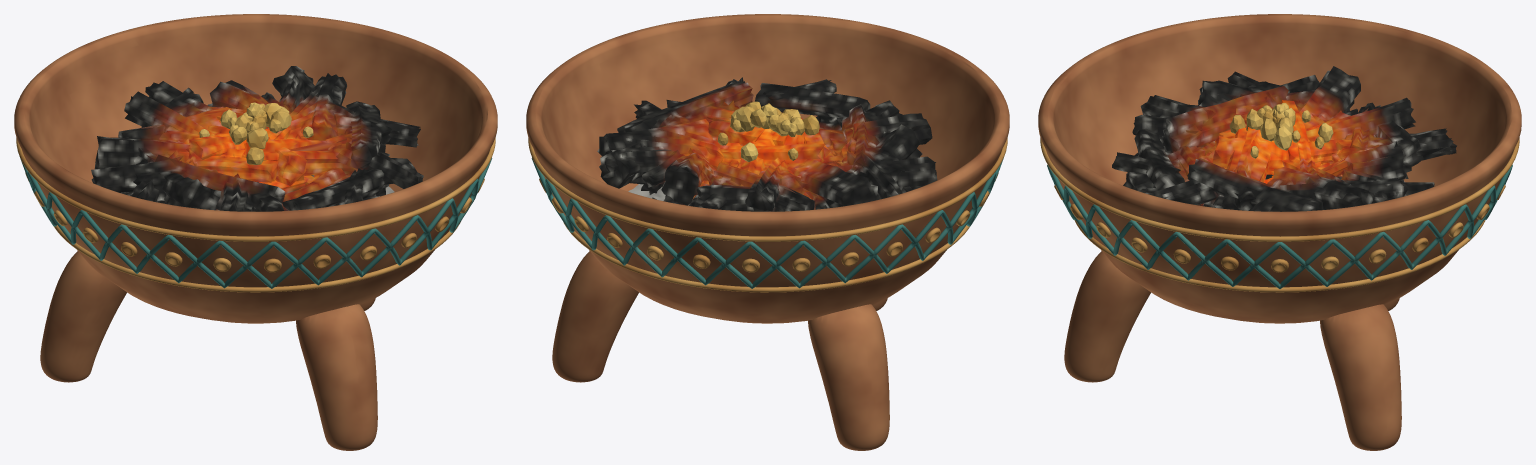
File: sahumerio.gltf
The picture shows the model from 3 angles, left to right: view 1: azimuth 30°, elevation 25°; view 2: azimuth 150°, elevation 25°; view 3: azimuth 270°, elevation 25°; orthographic projection.
Parts seen in each view (by area): view 1: sahumerio_optimizado; view 2: sahumerio_optimizado; view 3: sahumerio_optimizado.
Boxes of the visible parts, box(x1,y1,x2,y2) form: sahumerio_optimizado: box(14, 14, 497, 450); sahumerio_optimizado: box(526, 14, 1009, 450); sahumerio_optimizado: box(1038, 14, 1521, 450).
Size of the model in its own units: 0.312 by 0.1937 by 0.312.
6 materials, 6 textured.
